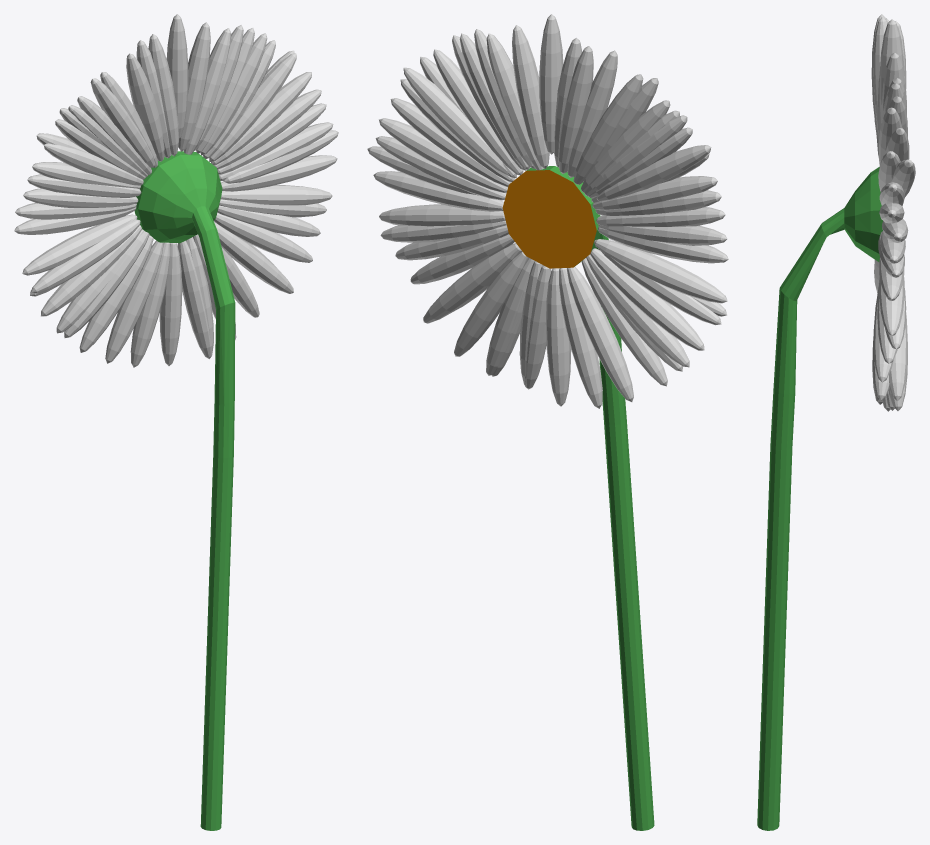
File: daisycentered.dae
3 views of the same model, side by side, from view 1: azimuth 30°, elevation 25°; view 2: azimuth 150°, elevation 25°; view 3: azimuth 270°, elevation 25° (orthographic). The views are drawn at different scales.
Parts seen in each view (by area): view 1: daisy; view 2: daisy; view 3: daisy.
Boxes of the visible parts, left/top/right/bottom form: daisy: left=14, top=14, right=338, bottom=830; daisy: left=367, top=14, right=728, bottom=830; daisy: left=757, top=14, right=915, bottom=830.
Bounding box in the file's own units: 1.88 × 0.7431 × 4.24.
